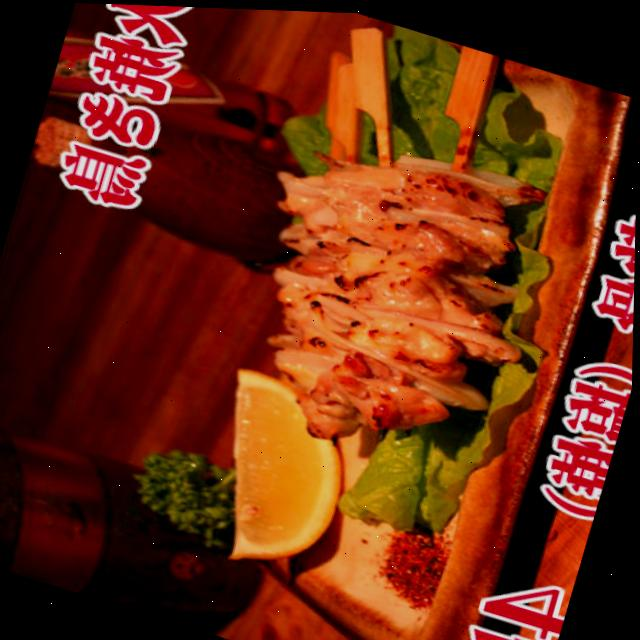烧串烤肉: (199, 6, 609, 495)
